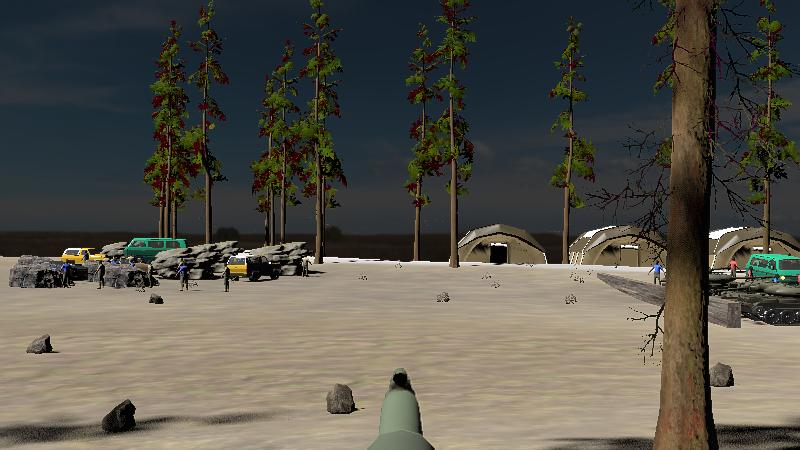Human: (647, 257, 667, 286), (175, 260, 191, 292), (59, 258, 75, 289), (95, 259, 107, 291), (221, 263, 233, 294), (727, 256, 740, 277), (301, 255, 312, 279)
Tank: (734, 281, 800, 326), (705, 270, 764, 298)
car: (744, 253, 800, 286), (223, 252, 281, 283), (123, 237, 191, 263), (59, 246, 105, 265)
